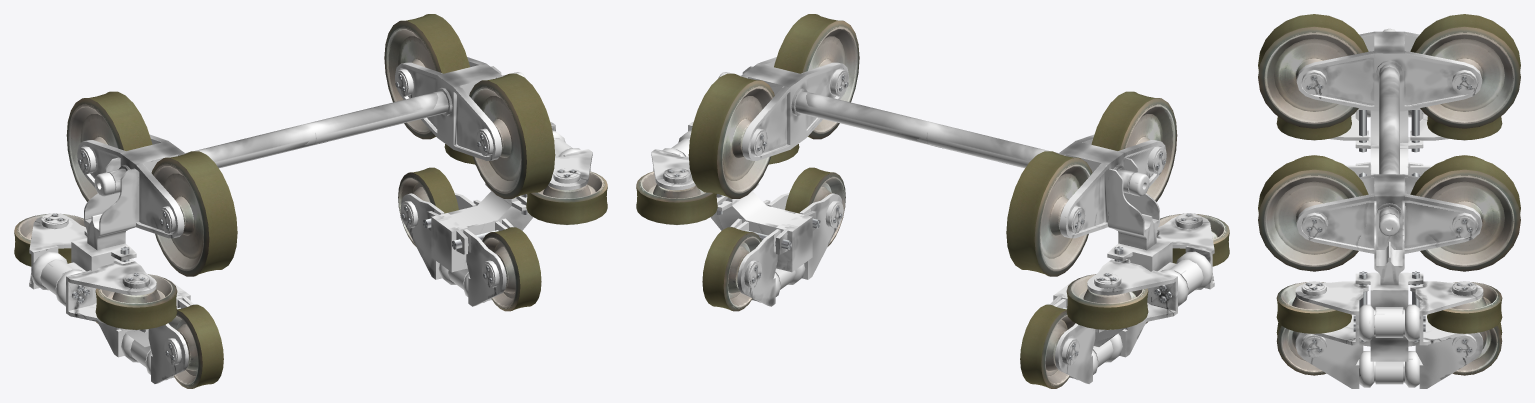
Rendered from Bogie.dae.
The picture shows the model from 3 angles, left to right: view 1: azimuth 30°, elevation 25°; view 2: azimuth 150°, elevation 25°; view 3: azimuth 270°, elevation 25°; orthographic projection. The views are drawn at different scales.
Visible parts, largest first — view 1: Cylinder_020, Cylinder_003, Wheel7, Wheel1, Wheel0, Wheel6, Wheel5, Wheel11, Wheel9, Wheel3, Wheel4, Wheel8 (+2 smaller); view 2: Cylinder_020, Cylinder_003, Wheel6, Wheel0, Wheel1, Wheel7, Wheel4, Wheel10, Wheel8, Wheel2, Wheel5, Wheel9 (+2 smaller); view 3: Cylinder_003, Cylinder_020, Wheel7, Wheel6, Wheel1, Wheel0, Wheel3, Wheel2, Wheel5, Wheel4, Wheel9, Wheel8 (+2 smaller).
Part boxes in pixels (x1,y1,x2,y2): Cylinder_020: (29, 123, 316, 383); Cylinder_003: (308, 57, 592, 306); Wheel7: (151, 151, 237, 276); Wheel1: (469, 73, 555, 198); Wheel0: (384, 14, 469, 139); Wheel6: (66, 91, 152, 201); Wheel5: (482, 227, 541, 311); Wheel11: (168, 304, 223, 388); Wheel9: (95, 274, 177, 329); Wheel3: (526, 171, 607, 224); Wheel4: (398, 167, 458, 246); Wheel8: (14, 213, 85, 266); Cylinder_020: (927, 123, 1214, 383); Cylinder_003: (651, 57, 935, 306); Wheel6: (1006, 151, 1092, 276); Wheel0: (688, 73, 774, 198); Wheel1: (774, 14, 859, 139); Wheel7: (1091, 91, 1177, 201); Wheel4: (702, 227, 761, 311); Wheel10: (1020, 304, 1075, 388); Wheel8: (1066, 274, 1148, 329); Wheel2: (636, 171, 717, 224); Wheel5: (785, 167, 845, 246); Wheel9: (1158, 213, 1229, 266); Cylinder_003: (1295, 123, 1483, 388); Cylinder_020: (1296, 28, 1482, 176); Wheel7: (1258, 14, 1368, 128); Wheel6: (1410, 14, 1520, 128); Wheel1: (1258, 157, 1368, 271); Wheel0: (1410, 157, 1520, 271); Wheel3: (1276, 282, 1351, 333); Wheel2: (1427, 282, 1502, 333); Wheel5: (1276, 322, 1326, 375); Wheel4: (1452, 322, 1502, 375); Wheel9: (1276, 116, 1351, 140); Wheel8: (1427, 116, 1502, 140).
Size of the model in its own units: 1.51 by 0.7 by 0.6543.
Materials: 6 (6 with a texture image).
